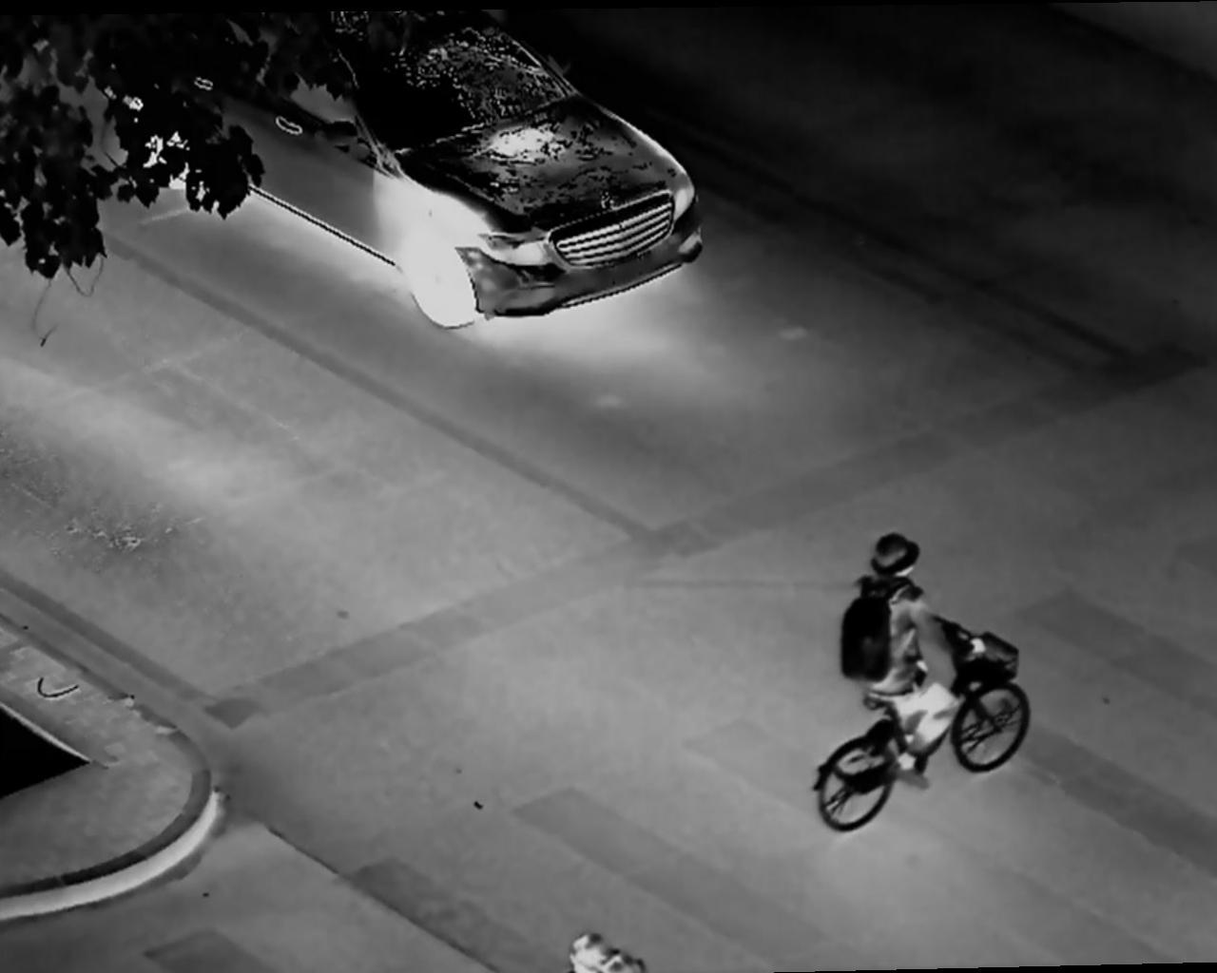person: (832, 525, 978, 787)
